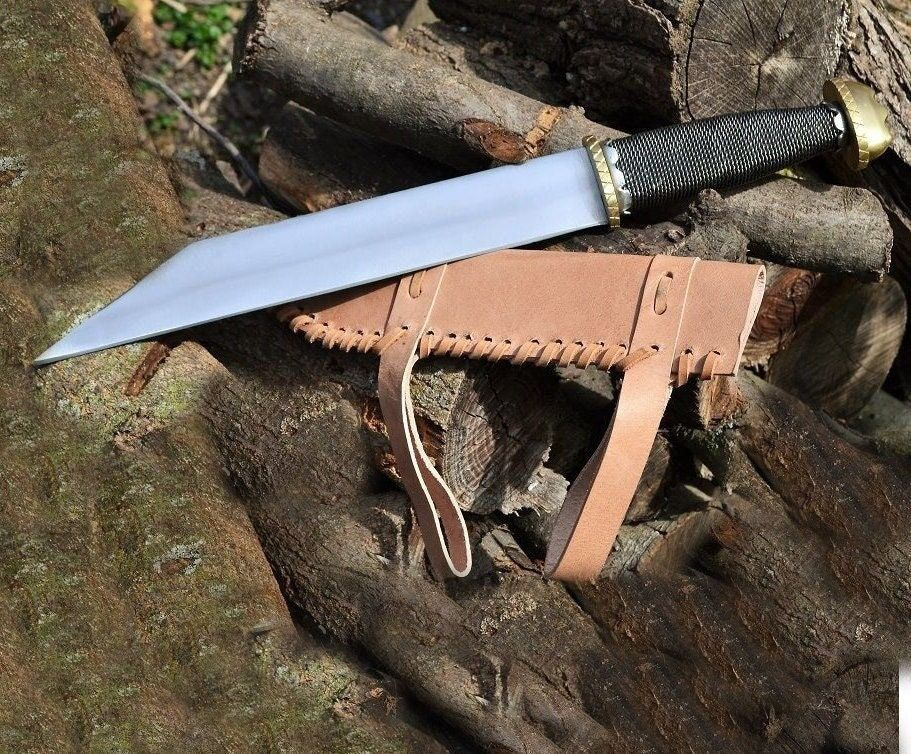knife: (28, 63, 896, 371)
